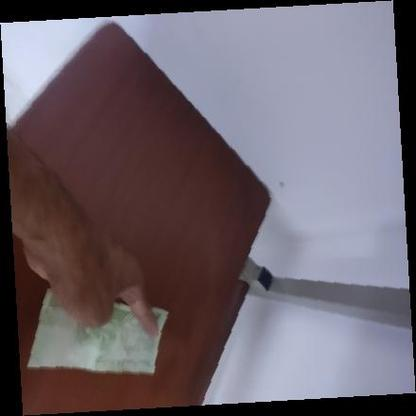vef_back: (26, 284, 170, 374)
